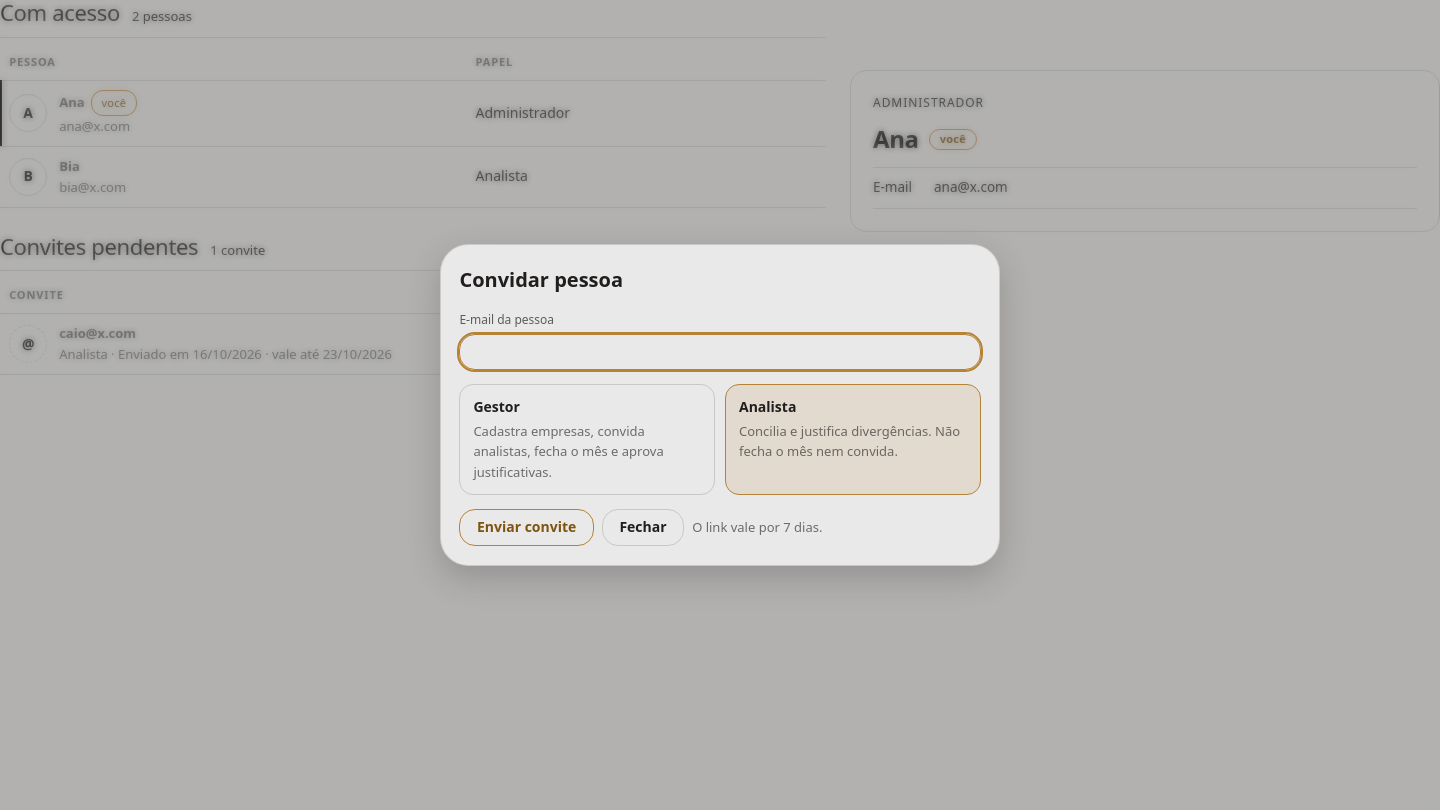
it: a equipe › o convite abre numa janela modal que se fecha por Fechar, Esc e clique no fundo
This screenshot has width=1440, height=810.
Expected: the button "Bia" is shown, [59,156,80,176]
Expected: the field labelled "E-mail da pessoa" is shown, [459,334,981,370]
Step 1. Click the button "Fechar" → (643, 528), box [602,509,684,546]
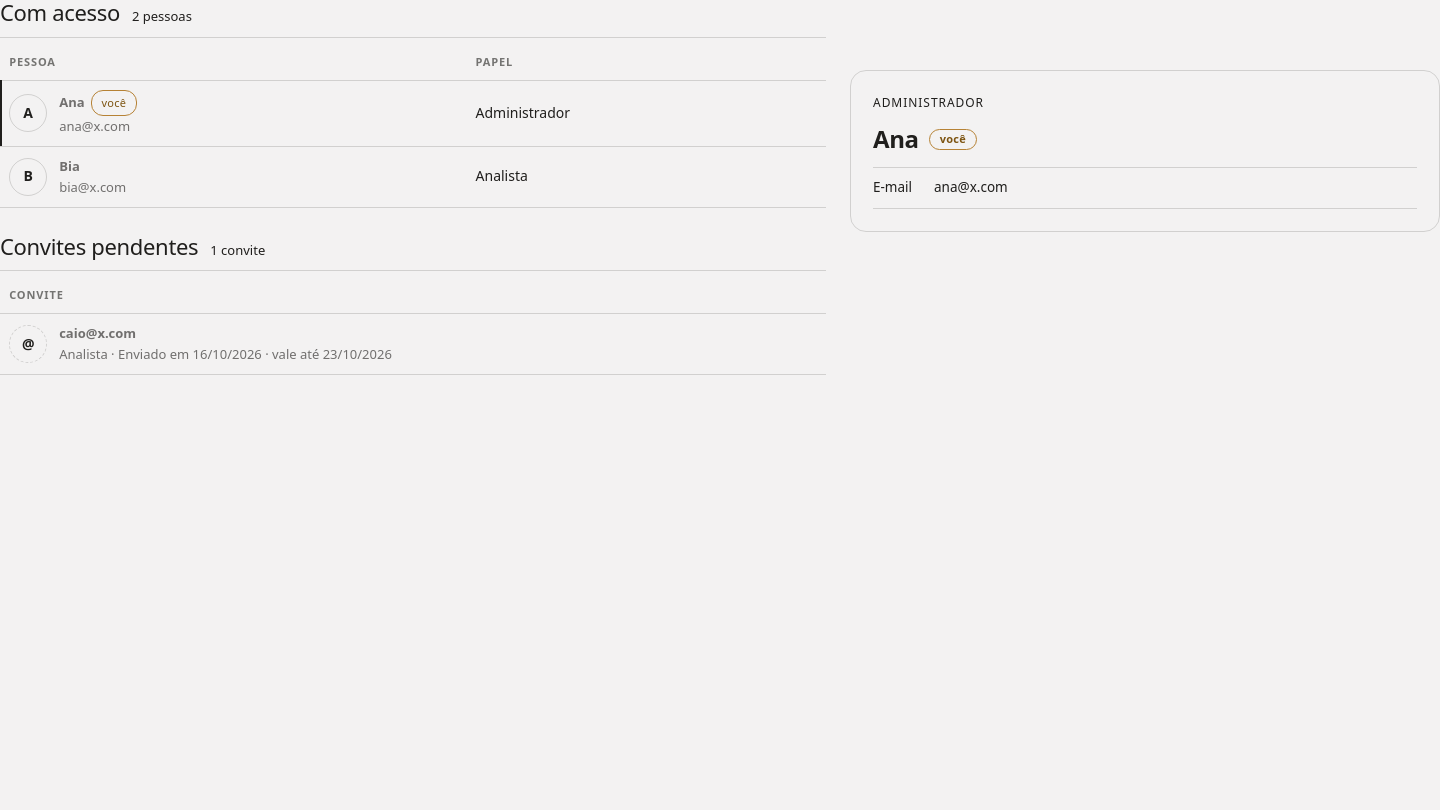
Now the dialog is gone
